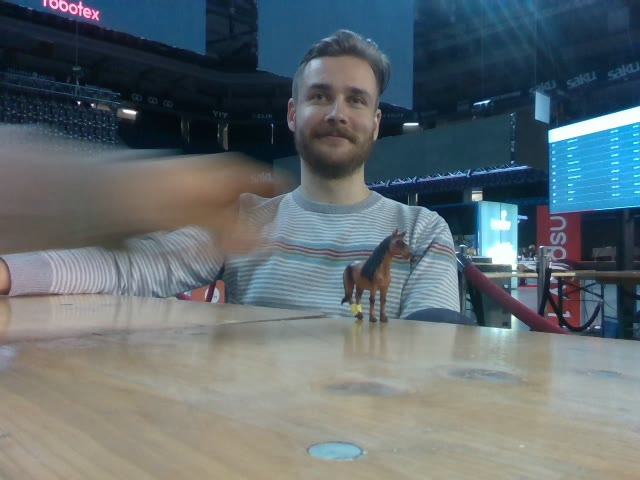toy: (332, 225, 419, 325)
